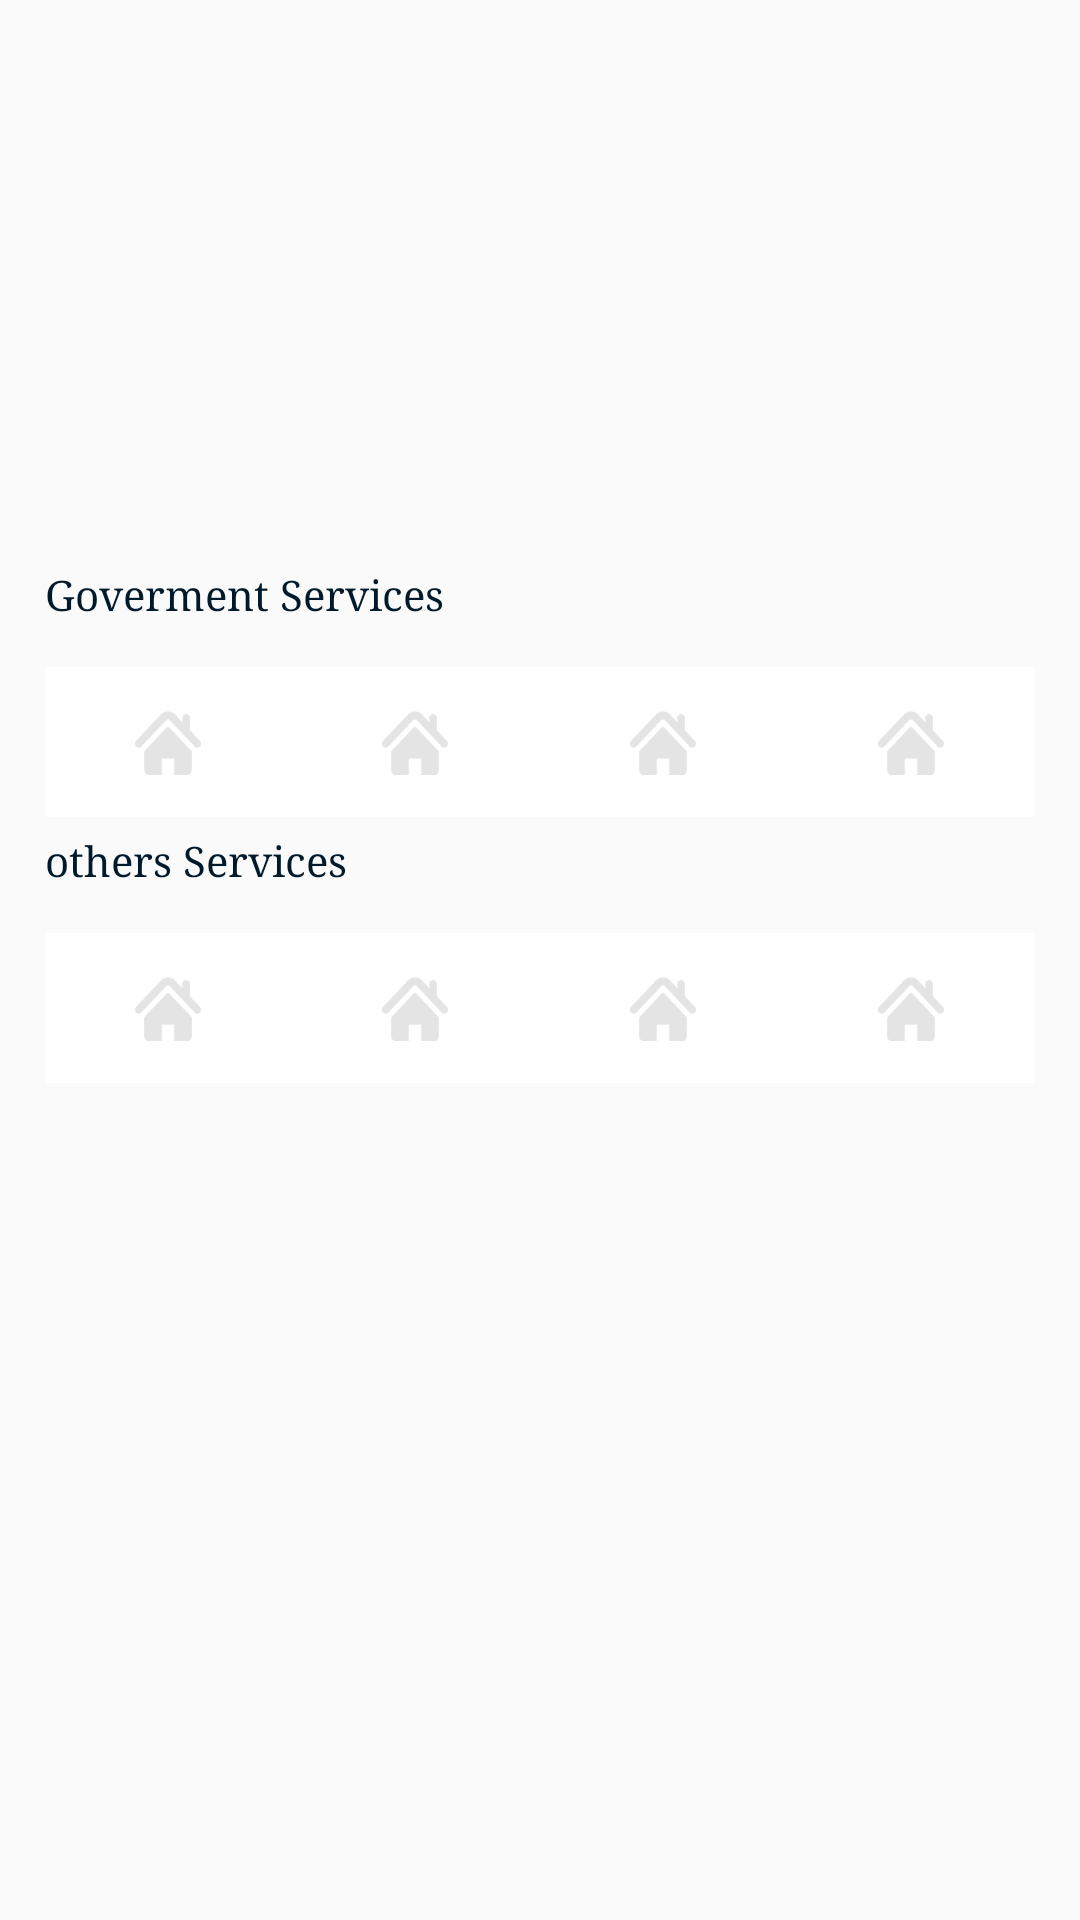

Icon bounding boxes for this 1080 × 1920 phone screenshot, format bbox=[x1, y1, x2, y2]:
slc chb btab home: bbox=[135, 712, 201, 775], bbox=[382, 712, 448, 775], bbox=[630, 712, 696, 775], bbox=[878, 712, 944, 775], bbox=[135, 978, 201, 1041], bbox=[382, 978, 448, 1041], bbox=[630, 978, 696, 1041], bbox=[878, 978, 944, 1041]
